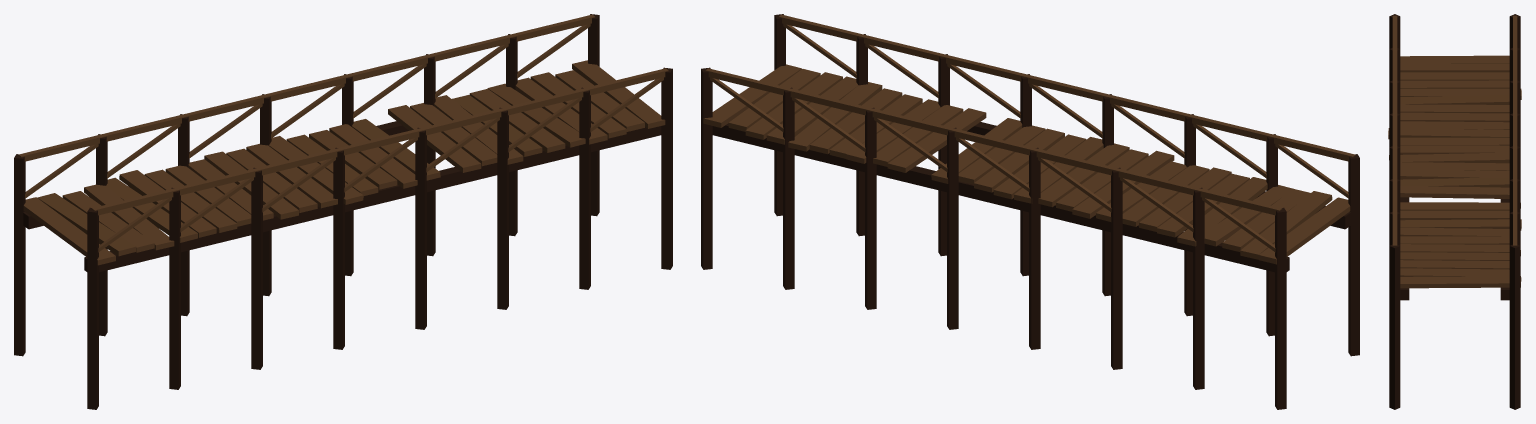
The model's file is puente_madera.fbx.
3 views of the same model, side by side, from view 1: azimuth 30°, elevation 25°; view 2: azimuth 150°, elevation 25°; view 3: azimuth 270°, elevation 25° (orthographic). The views are drawn at different scales.
Visible parts, largest first — view 1: puente_madera; view 2: puente_madera; view 3: puente_madera.
Boxes of the visible parts, x1=… form: puente_madera: x1=14, y1=14, x2=672, y2=409; puente_madera: x1=701, y1=14, x2=1359, y2=409; puente_madera: x1=1388, y1=14, x2=1521, y2=409.
Size of the model in its own units: 14.28 by 4.62 by 3.44.
